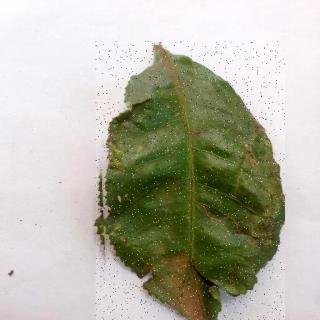Algal Leaf: (97, 42, 286, 320)
